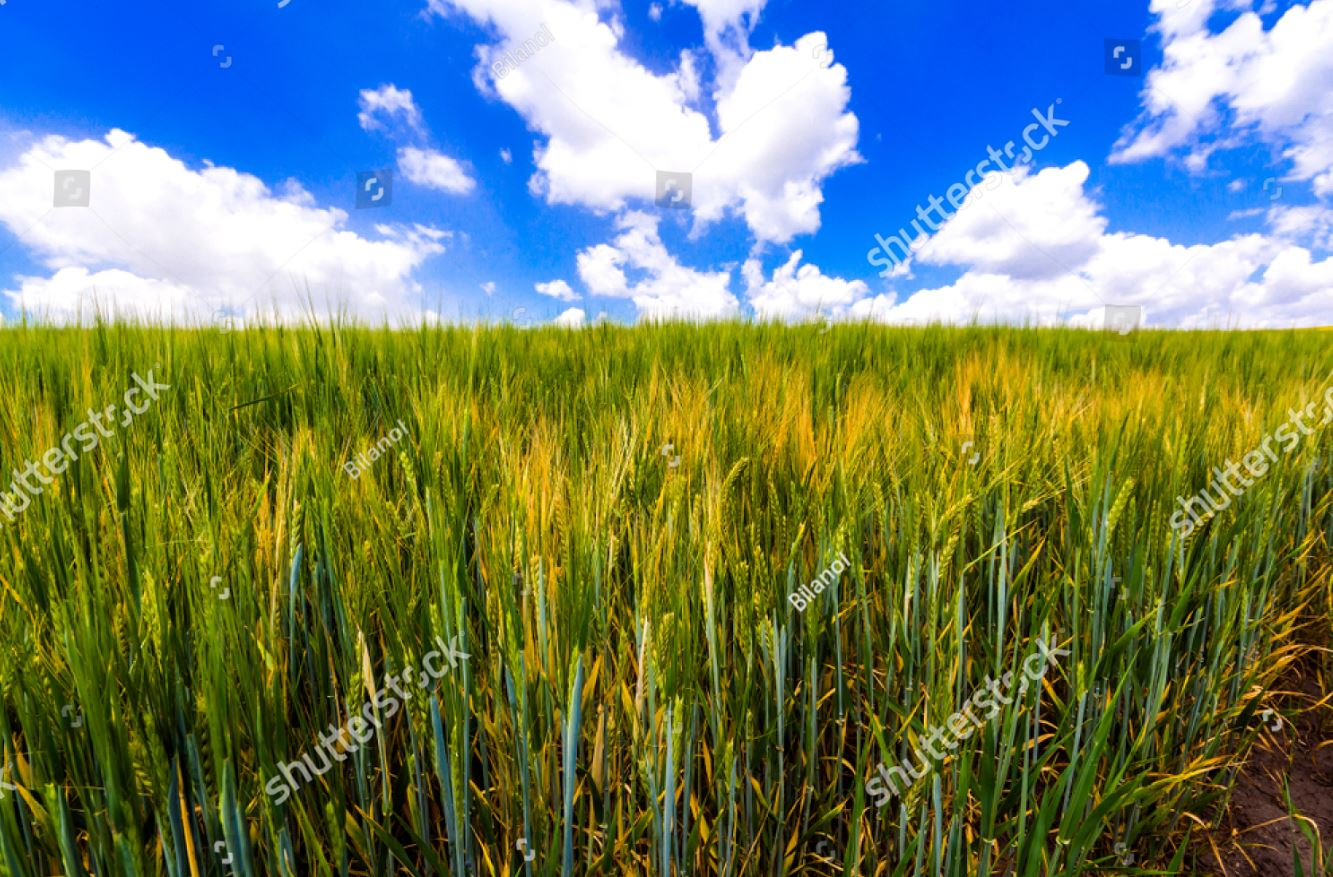Wheat: (213, 340, 887, 710)
